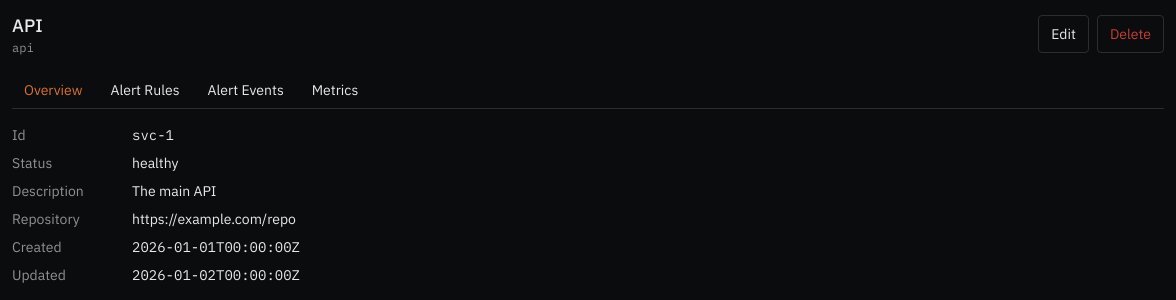
Test case: ServiceDetailPage › shows a 404 error and refetches when deleting an already-gone service
Expected: the heading "API" is shown, [12, 12, 43, 40]
Click the button "Delete".
click(1130, 34)  # box [1097, 15, 1164, 53]
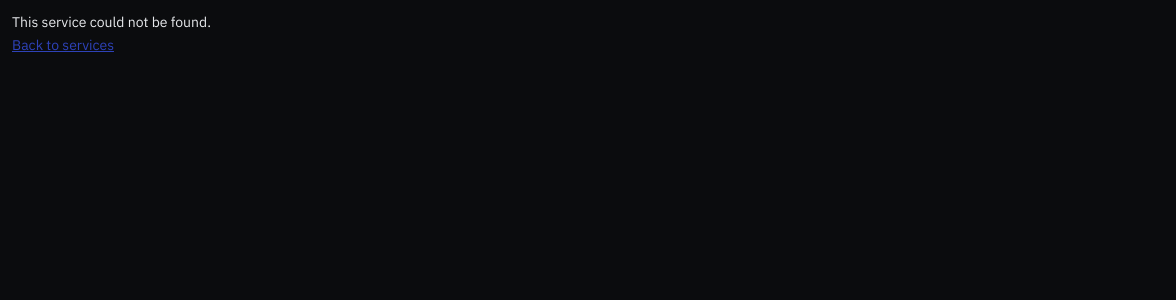
Expected: the text "This service could not be found." is shown, [12, 13, 211, 31]
